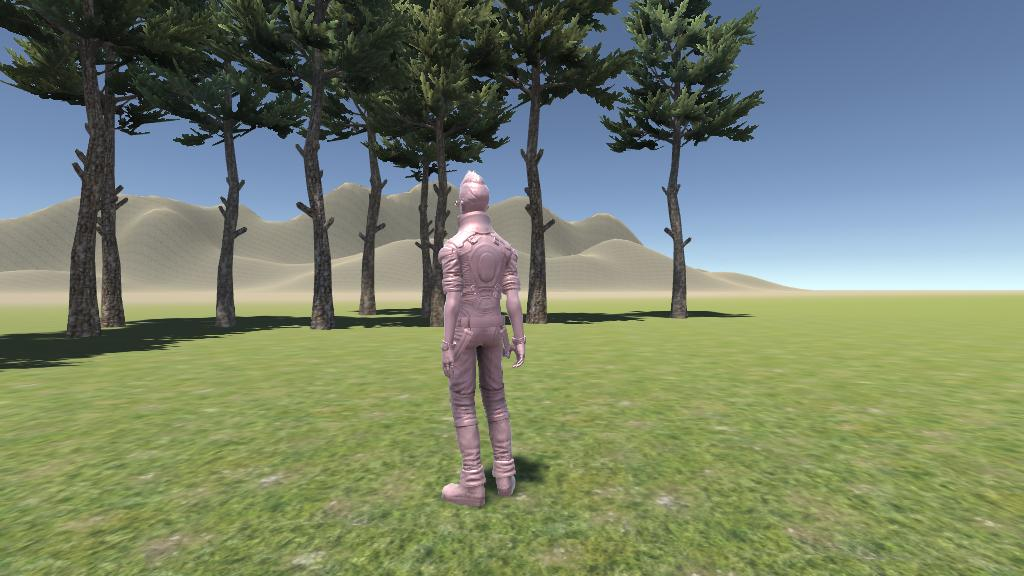ethan: (438, 171, 525, 506)
